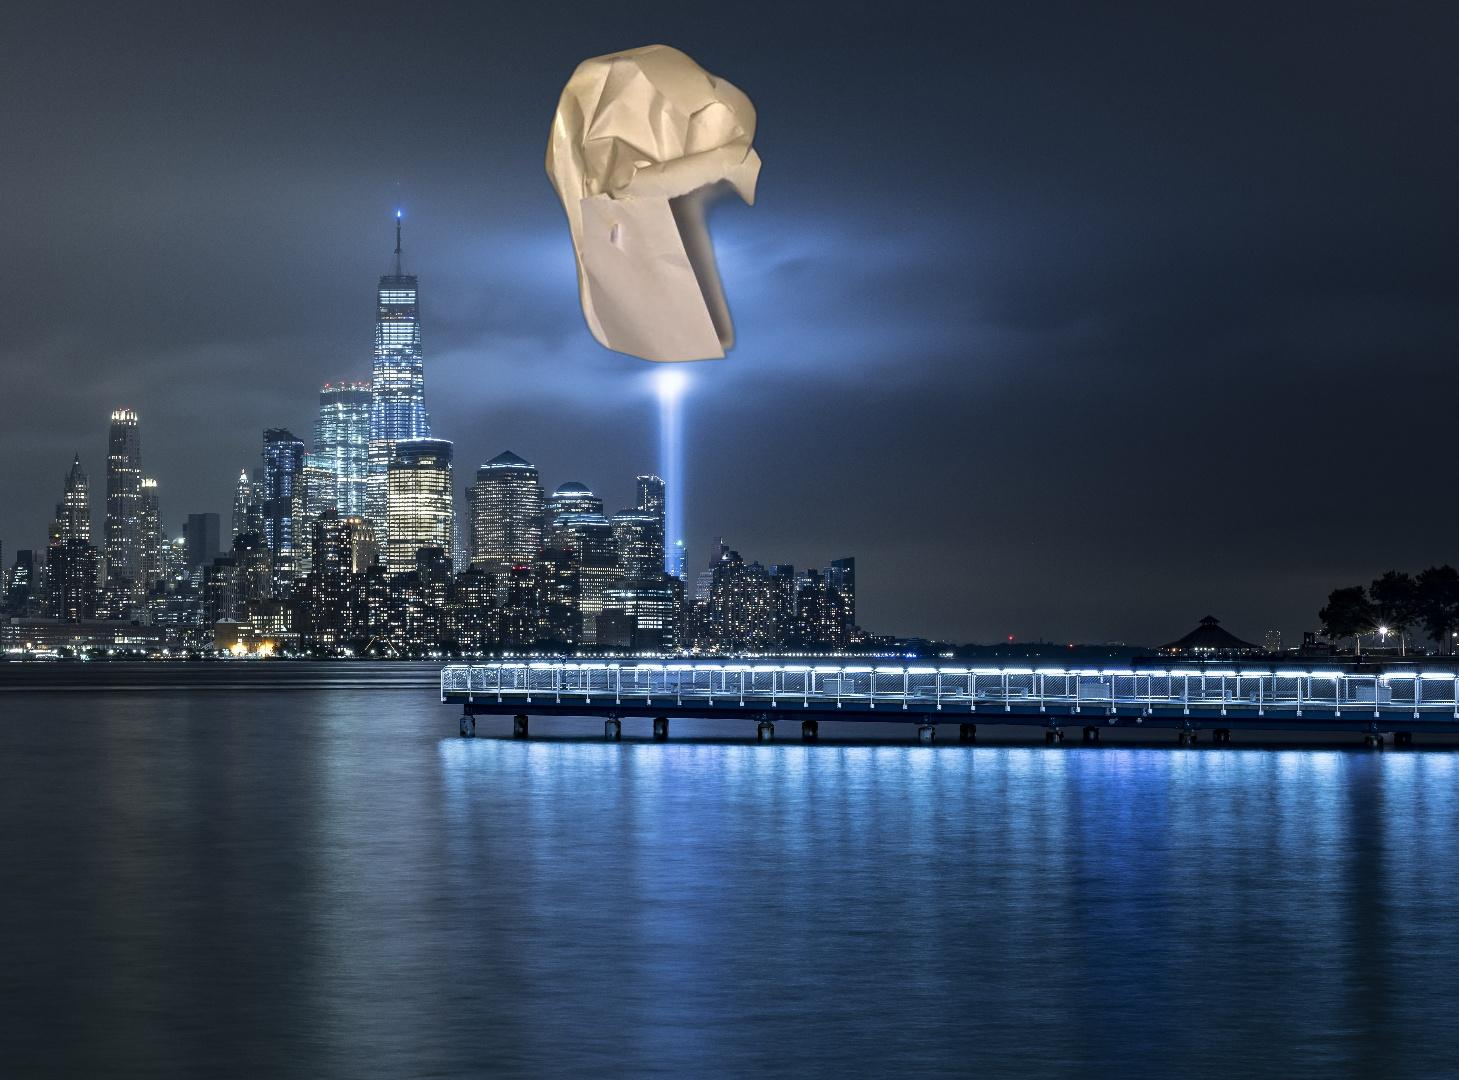paper: (540, 42, 766, 365)
